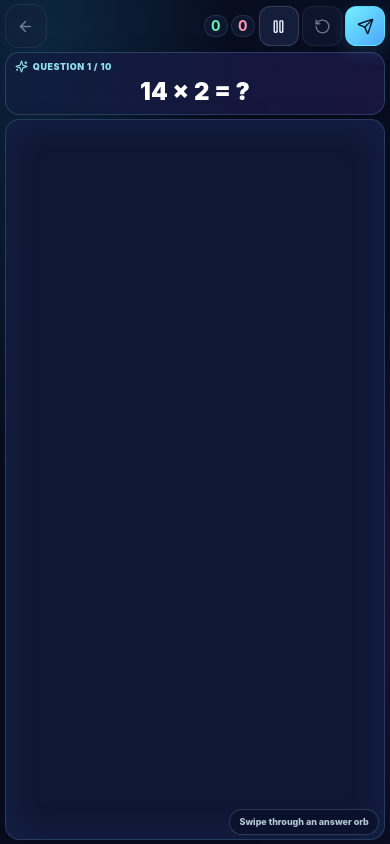
it: Math Slice Ninja › pauses/resumes and keeps Submit Test distinct
The image size is (390, 844).
Later steps or results of the test are not shown.
Click the button named "Pause game". click: (279, 26)
box: [259,6,299,46]
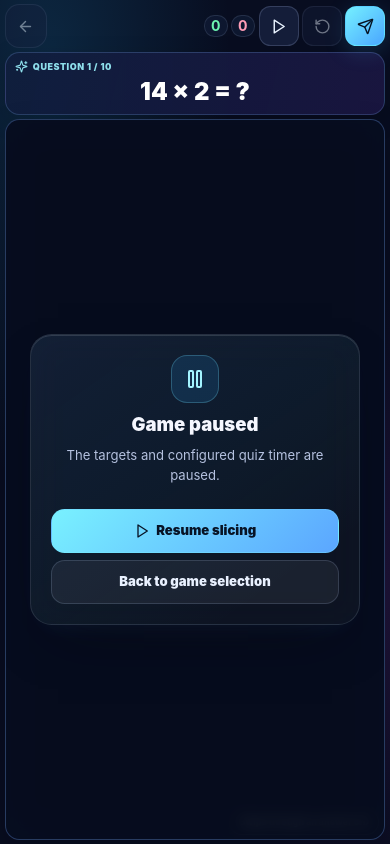
Expected: the dialog "Game paused" is shown, [30,334,360,625]
